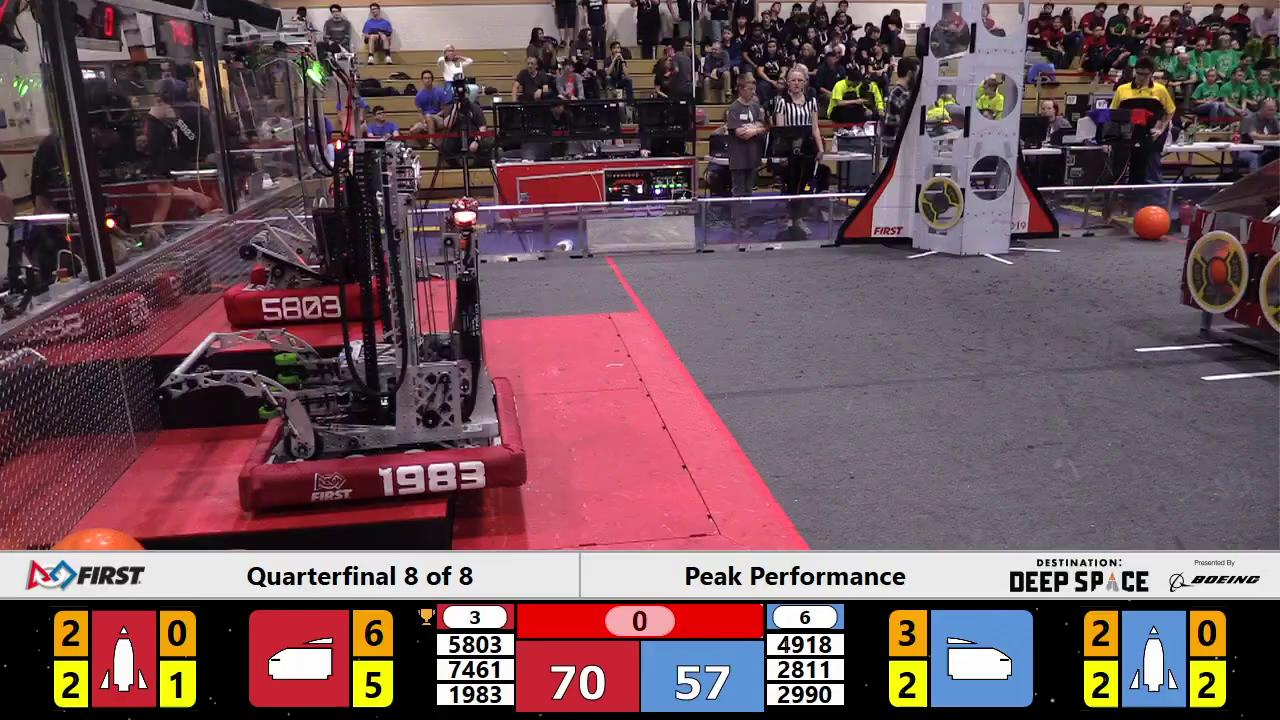robot: (235, 205, 525, 506), (216, 133, 378, 322)
